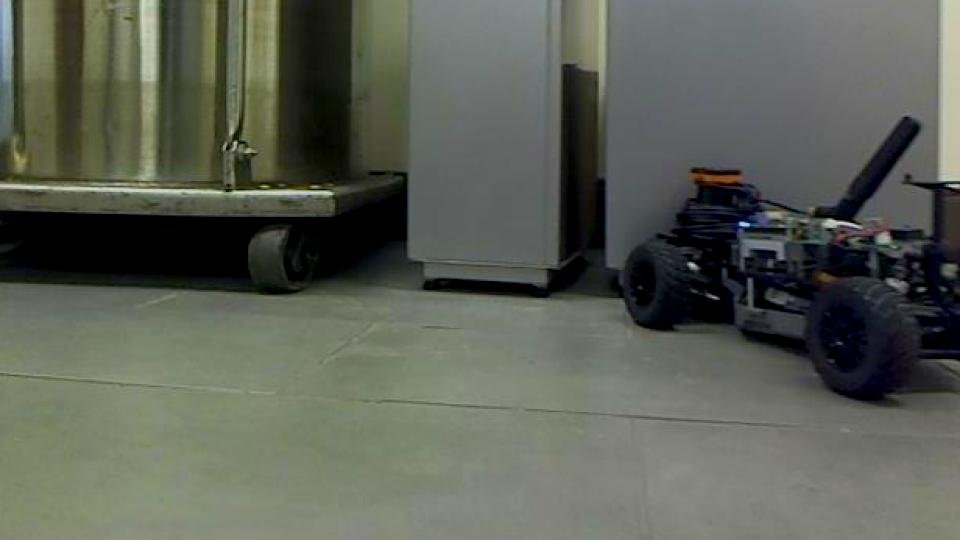car: (0, 0, 409, 295), (617, 112, 960, 403)
